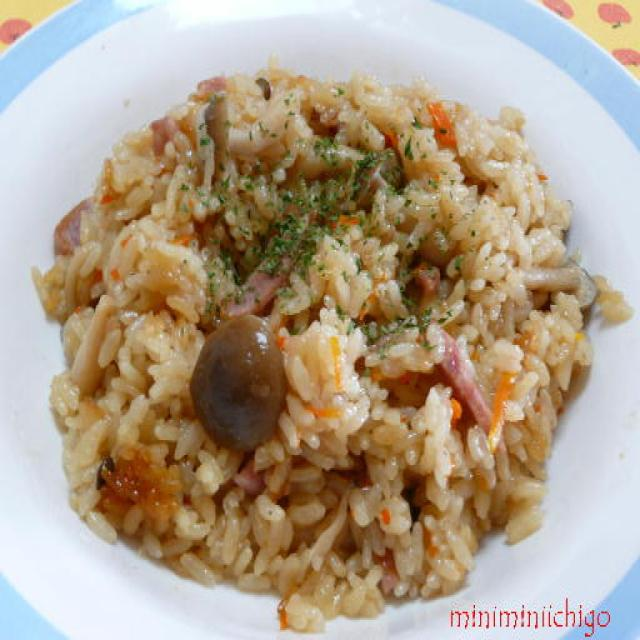米饭主食: (0, 0, 640, 580)
